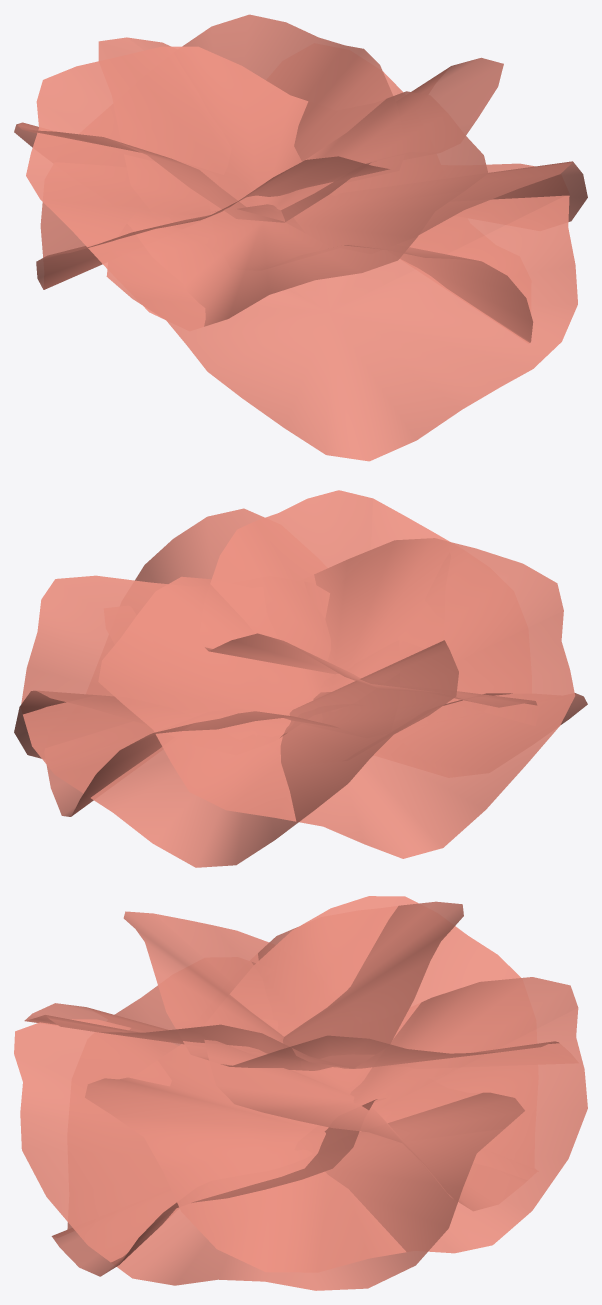
The model's file is ginger.glb.
The picture shows the model from 3 angles, top to bottom: view 1: azimuth 30°, elevation 25°; view 2: azimuth 150°, elevation 25°; view 3: azimuth 270°, elevation 25°; orthographic projection.
Visible parts, largest first — view 1: ginger-6, ginger-1, ginger-5, ginger-4, ginger-3, ginger-2; view 2: ginger-5, ginger-4, ginger-6, ginger-3, ginger-2; view 3: ginger-3, ginger-2, ginger-4, ginger-6, ginger-5, ginger-1.
Boxes of the visible parts, x1=… form: ginger-6: x1=26, y1=46, x2=488, y2=326; ginger-1: x1=106, y1=163, x2=577, y2=461; ginger-5: x1=36, y1=14, x2=393, y2=289; ginger-4: x1=14, y1=57, x2=503, y2=222; ginger-3: x1=98, y1=37, x2=587, y2=234; ginger-2: x1=328, y1=71, x2=533, y2=342; ginger-5: x1=98, y1=538, x2=575, y2=858; ginger-4: x1=21, y1=575, x2=458, y2=867; ginger-6: x1=205, y1=490, x2=537, y2=707; ginger-3: x1=46, y1=508, x2=340, y2=816; ginger-2: x1=14, y1=690, x2=287, y2=758; ginger-3: x1=85, y1=977, x2=587, y2=1272; ginger-2: x1=14, y1=1019, x2=524, y2=1290; ginger-4: x1=204, y1=896, x2=527, y2=1211; ginger-6: x1=24, y1=901, x2=463, y2=1068; ginger-5: x1=123, y1=911, x2=559, y2=1070; ginger-1: x1=51, y1=961, x2=377, y2=1276.
Size of the model in its own units: 0.0939 by 0.0511 by 0.0948.
